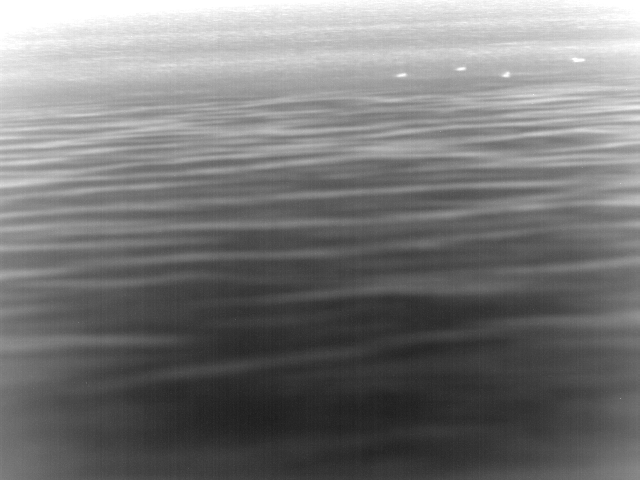dim target: (571, 55, 586, 63), (395, 72, 408, 78), (455, 66, 467, 72), (502, 70, 510, 78)
